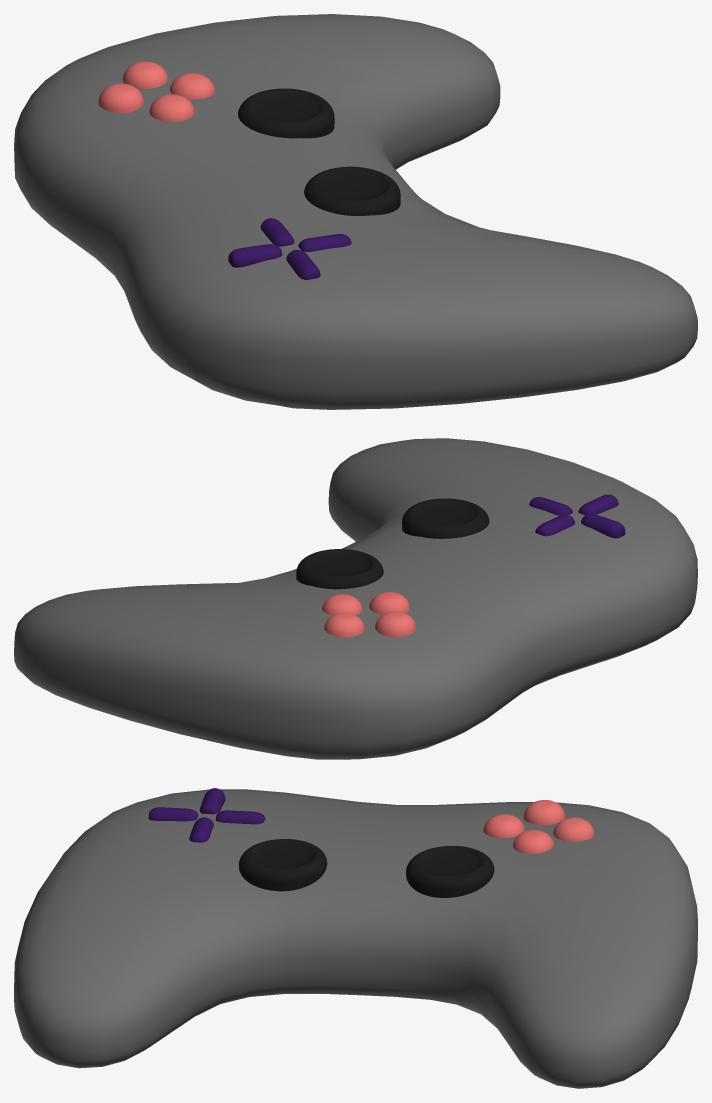
File: game2.glb
3 renders of one model, top to bottom at view 1: azimuth 30°, elevation 25°; view 2: azimuth 150°, elevation 25°; view 3: azimuth 270°, elevation 25°, orthographic. The views are drawn at different scales.
Parts seen in each view (by area): view 1: game controller; view 2: game controller; view 3: game controller.
Part boxes in pixels (bbox=[...]): game controller: bbox=[14, 14, 697, 409]; game controller: bbox=[14, 438, 697, 759]; game controller: bbox=[14, 788, 697, 1088].
Bounding box in the file's own units: 0.5237 × 0.14 × 0.6418.
